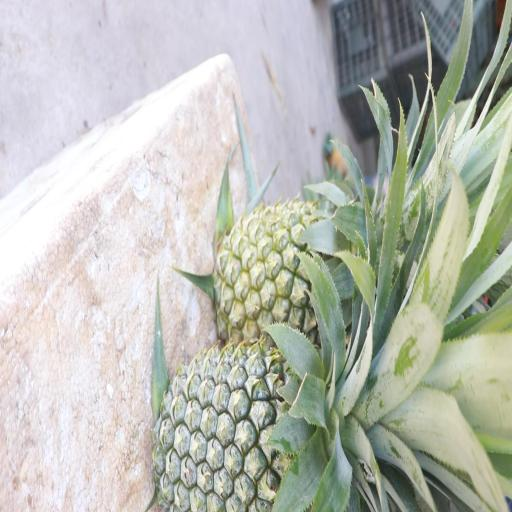Pineapple - v8 v1: (218, 186, 396, 346)
